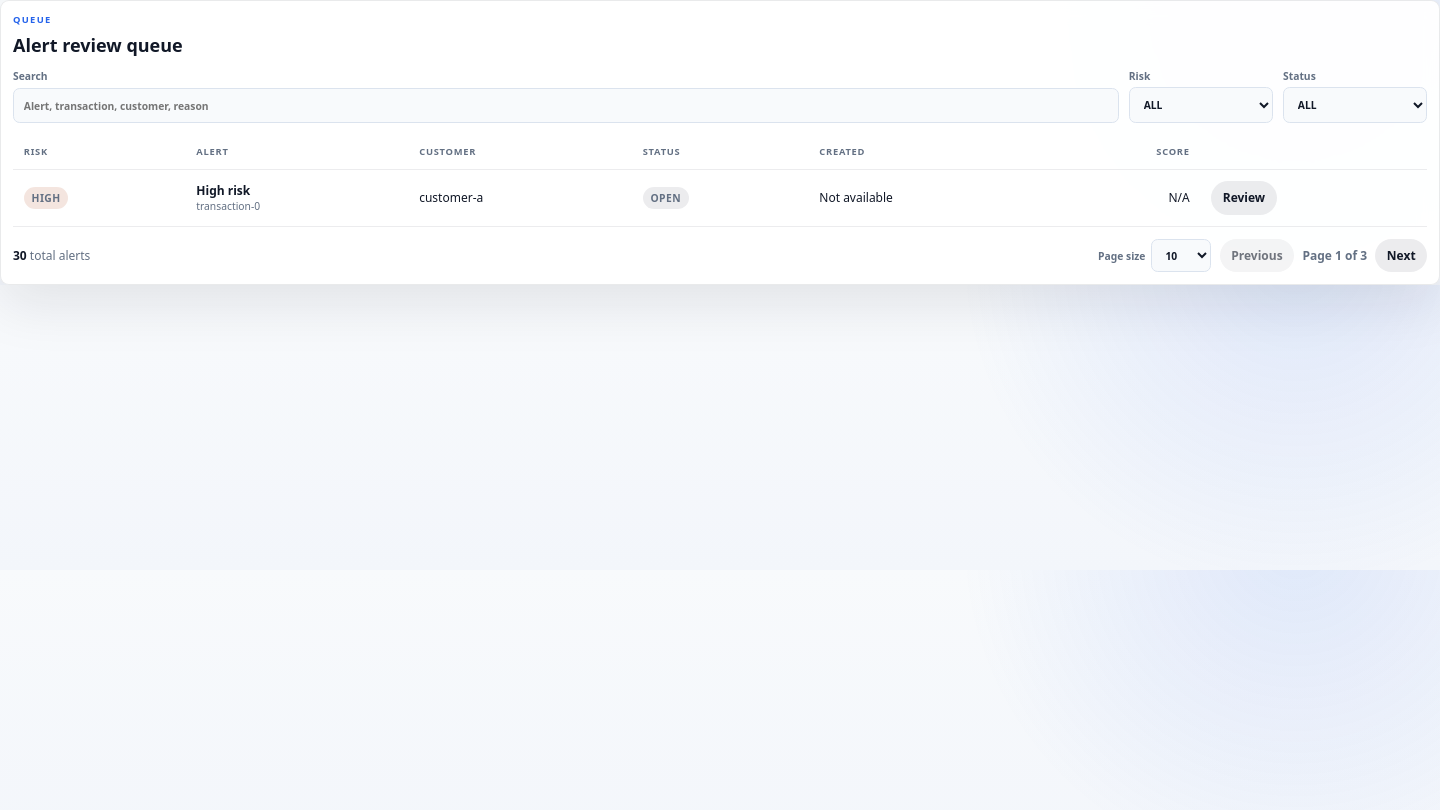
it: Alert Queue local filtering and backend pagination › keeps backend pagination available when the local search filter has no matches
Later steps or results of the test are not shown.
Step 1. Type "no-local-match" into the field labelled "Search" → (566, 106), box [13, 88, 1119, 123]
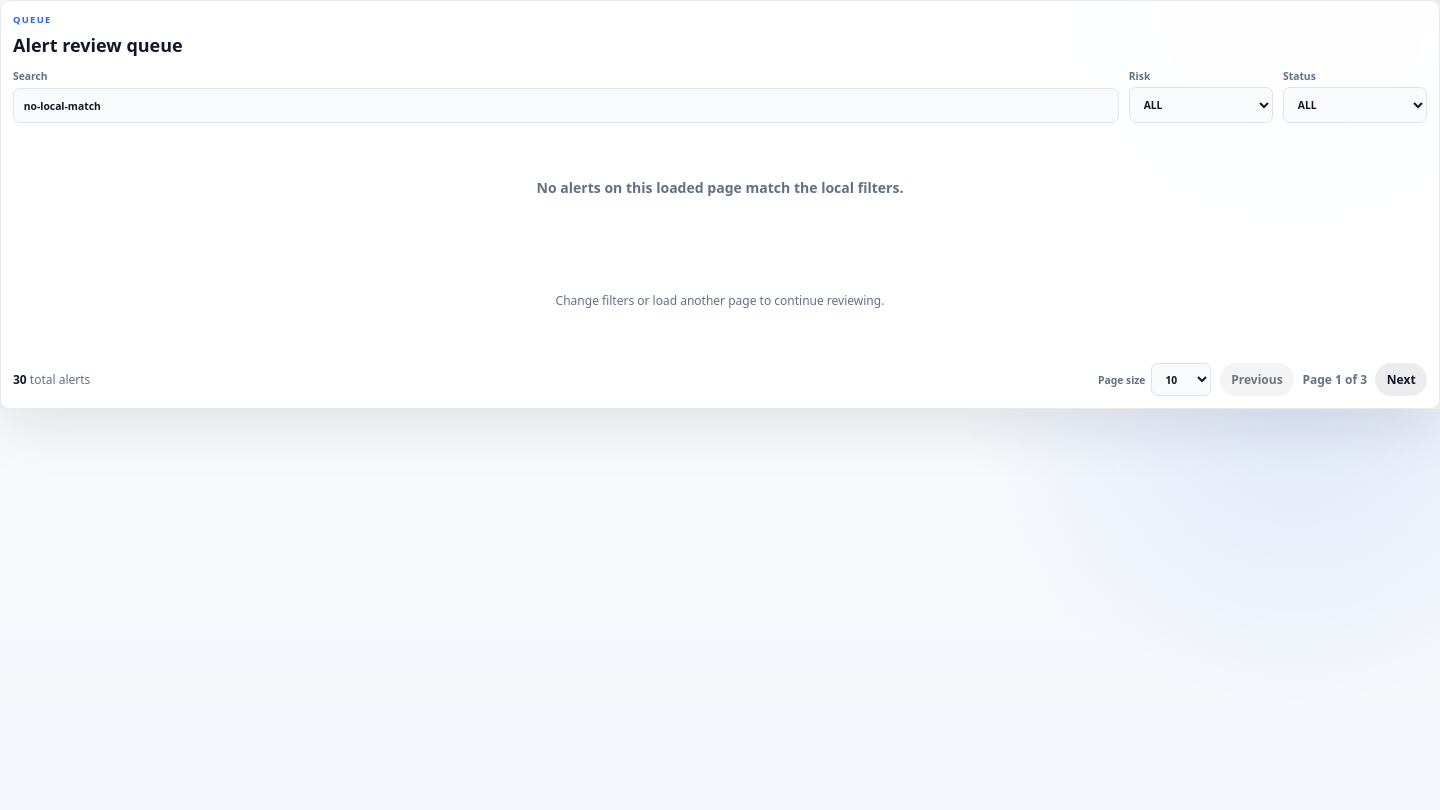
Expected: the text "Page 1 of 3" is shown, [1302, 371, 1367, 388]
Expected: the heading "No alerts on this loaded page match the local filters." is shown, [536, 178, 903, 197]
